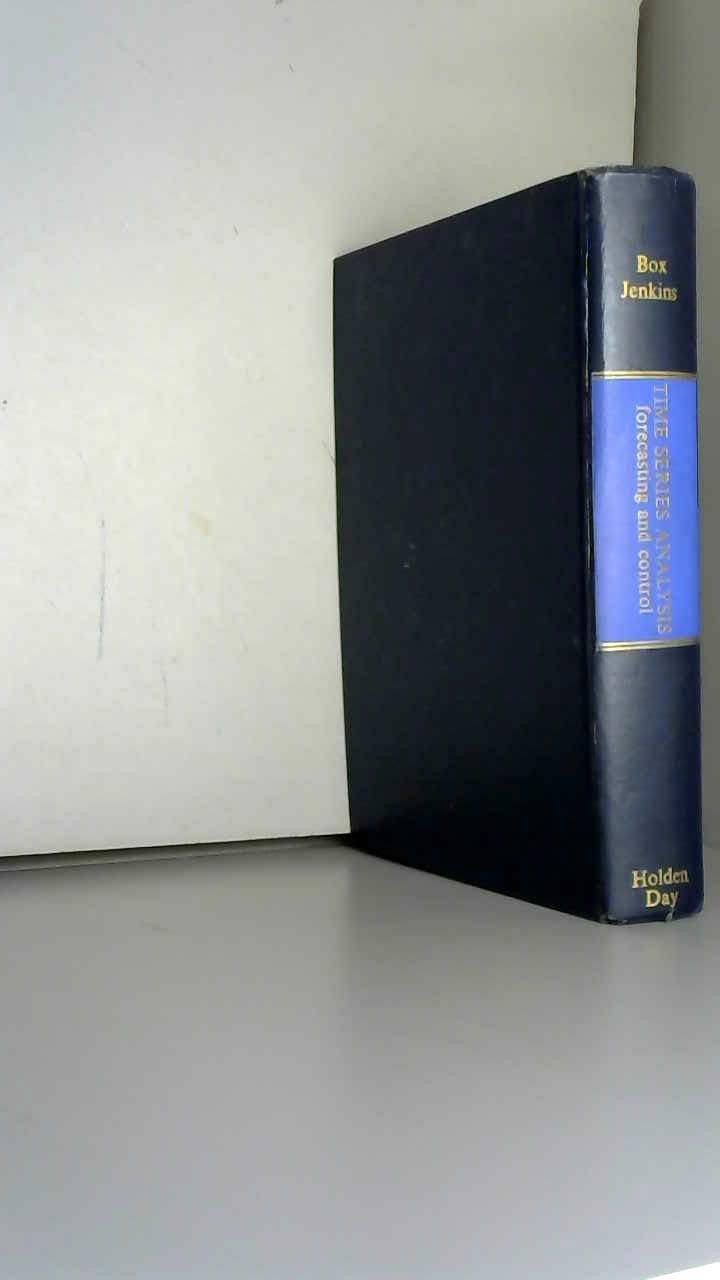book: (300, 160, 716, 940)
